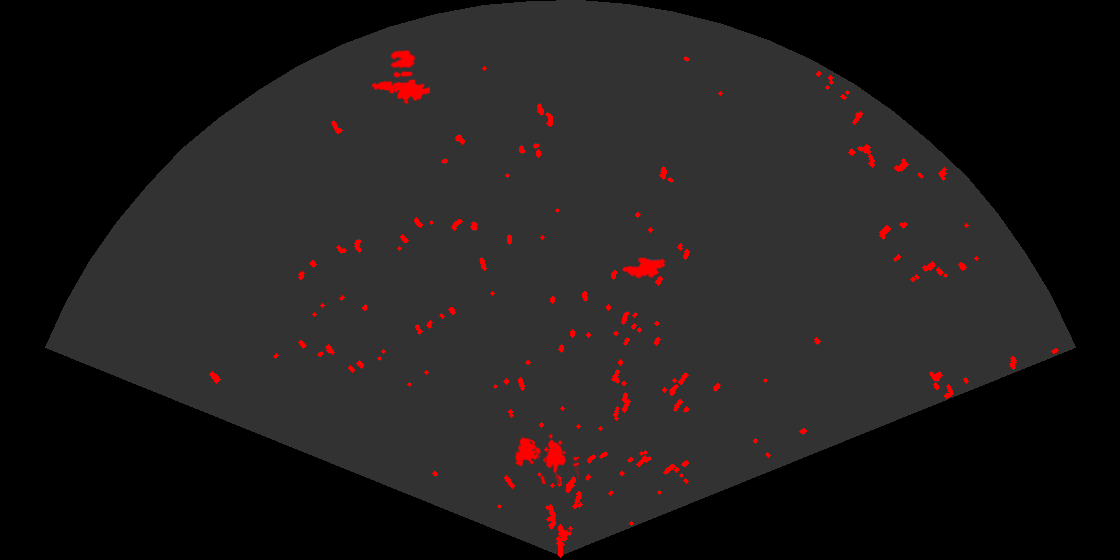AUV: (620, 256, 667, 279)
ball: (389, 48, 417, 79)
cage: (514, 432, 579, 484)
frogman: (369, 78, 430, 106)
